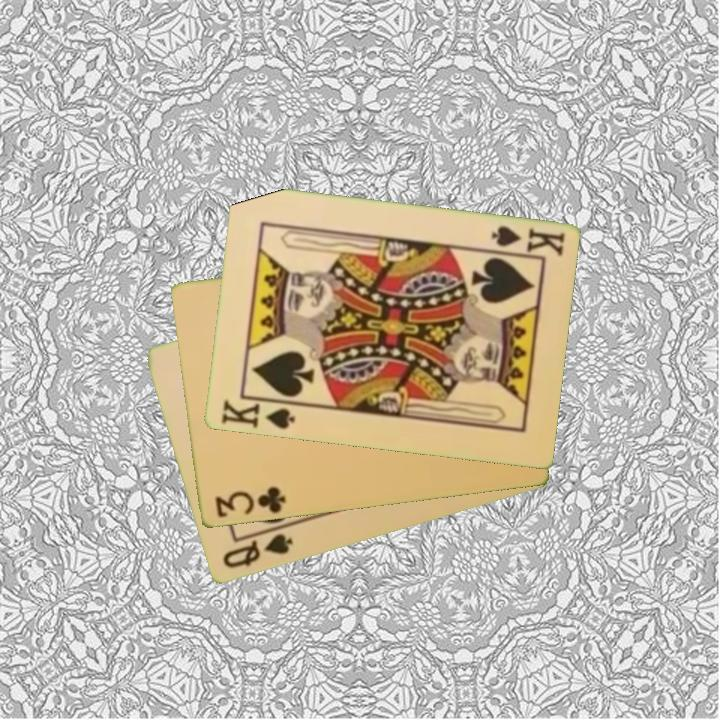3c: (211, 483, 288, 521)
Ks: (487, 222, 567, 260), (217, 396, 298, 433)
Qs: (218, 530, 296, 572)
